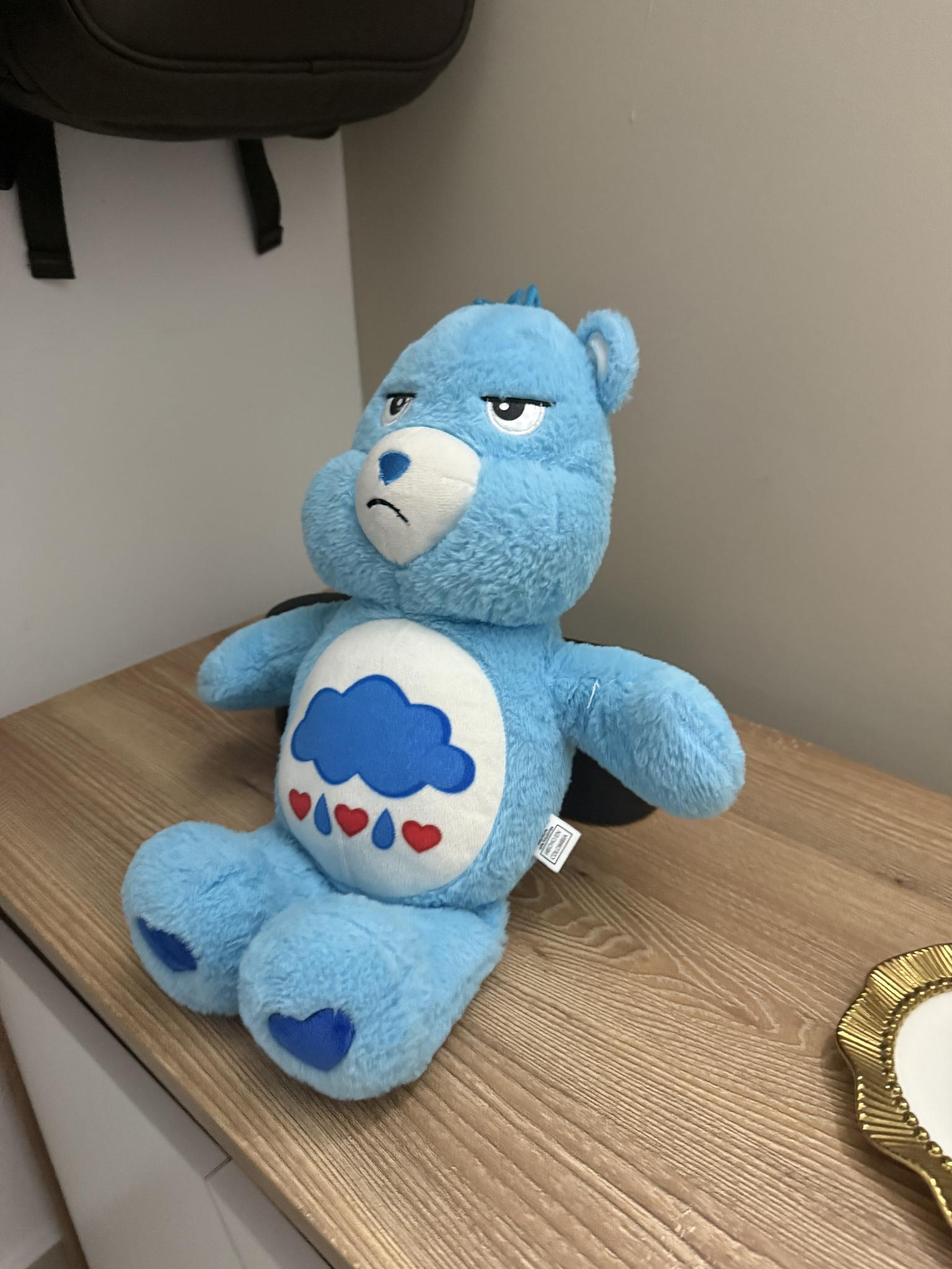peluche_Juan Jose: (120, 289, 758, 1111)
